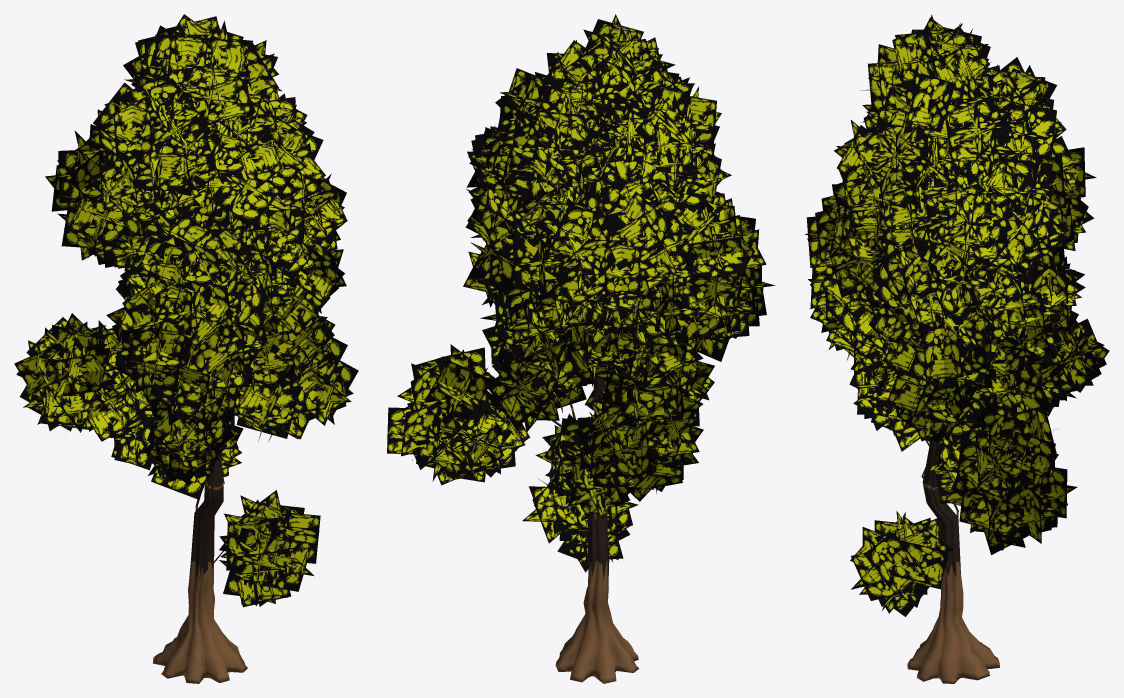
Rendered from Tree3.glb.
The picture shows the model from 3 angles, left to right: view 1: azimuth 30°, elevation 25°; view 2: azimuth 150°, elevation 25°; view 3: azimuth 270°, elevation 25°; orthographic projection. The views are drawn at different scales.
Parts seen in each view (by area): view 1: Birch _Tree_4_Leaves_LOD0, Tree_4_LOD0; view 2: Birch _Tree_4_Leaves_LOD0, Tree_4_LOD0; view 3: Birch _Tree_4_Leaves_LOD0, Tree_4_LOD0.
Boxes of the visible parts, box(x1,y1,x2,y2) form: Birch _Tree_4_Leaves_LOD0: box(14, 14, 358, 607); Tree_4_LOD0: box(138, 222, 247, 683); Birch _Tree_4_Leaves_LOD0: box(387, 14, 775, 572); Tree_4_LOD0: box(481, 183, 638, 683); Birch _Tree_4_Leaves_LOD0: box(805, 14, 1109, 616); Tree_4_LOD0: box(907, 360, 1062, 683).
Bounding box in the file's own units: 5.12 × 9.9 × 4.29.
2 materials, 2 textured.
